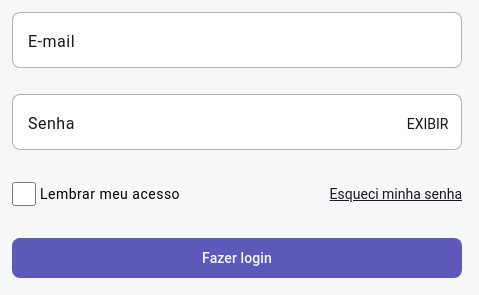
<LoginForm/> › should render error message of pattern in field password
Type "123" into the field labelled "Senha" at (237,122), box [12,94,462,150]
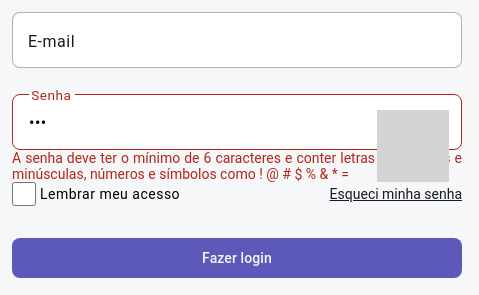
Check: the text "A senha deve ter o mínimo de 6 caracteres e conter letras maiúsculas e minúsculas, números e símbolos como ! @ # $ % & *" is shown, box [12,150,462,182]
